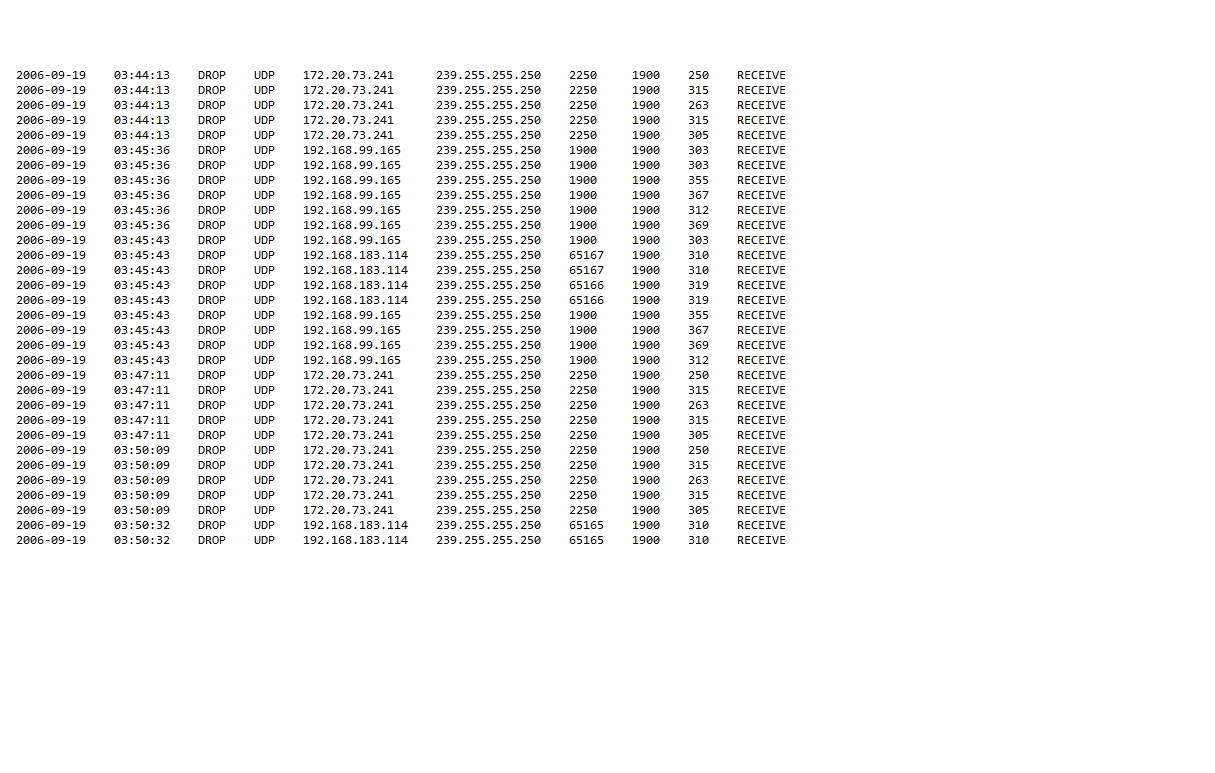table: (10, 62, 792, 553)
